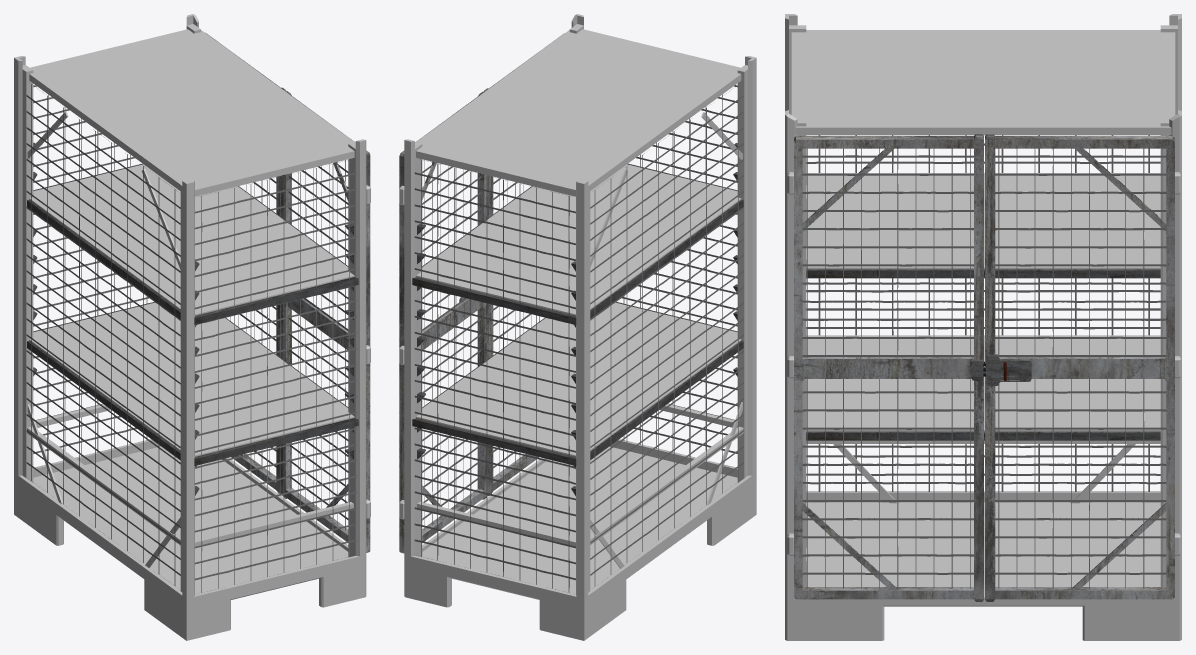
Rendered from militarya_locker9_mat.gltf.
The picture shows the model from 3 angles, left to right: view 1: azimuth 30°, elevation 25°; view 2: azimuth 150°, elevation 25°; view 3: azimuth 270°, elevation 25°; orthographic projection. The views are drawn at different scales.
Parts seen in each view (by area): view 1: fence_locker_body, desk_top.001, desk_top, fence_left, fence_back, LDoor, fence_right, desk_body.001, desk_body, fence_LDoor, RDoor, holders (+1 smaller); view 2: fence_locker_body, desk_top.001, desk_top, fence_right, fence_back, RDoor, desk_body.001, desk_body, fence_RDoor, fence_left, LDoor, holders (+1 smaller); view 3: fence_locker_body, desk_top, desk_top.001, LDoor, RDoor, fence_RDoor, fence_LDoor, fence_back, desk_body, desk_body.001, locker1.
Boxes of the visible parts, x1=… form: fence_locker_body: x1=14, y1=14, x2=370, y2=640; desk_top.001: x1=29, y1=302, x2=354, y2=456; desk_top: x1=29, y1=164, x2=354, y2=315; fence_left: x1=194, y1=159, x2=356, y2=592; fence_back: x1=26, y1=84, x2=180, y2=586; LDoor: x1=281, y1=91, x2=370, y2=552; fence_right: x1=33, y1=85, x2=148, y2=467; desk_body.001: x1=27, y1=302, x2=358, y2=465; desk_body: x1=27, y1=163, x2=358, y2=324; fence_LDoor: x1=288, y1=160, x2=348, y2=530; RDoor: x1=205, y1=32, x2=286, y2=493; holders: x1=33, y1=142, x2=353, y2=495; fence_locker_body: x1=399, y1=14, x2=756, y2=640; desk_top.001: x1=416, y1=302, x2=741, y2=456; desk_top: x1=416, y1=164, x2=741, y2=315; fence_right: x1=414, y1=159, x2=575, y2=592; fence_back: x1=590, y1=83, x2=743, y2=586; RDoor: x1=399, y1=91, x2=488, y2=553; desk_body.001: x1=412, y1=302, x2=743, y2=465; desk_body: x1=412, y1=163, x2=743, y2=324; fence_RDoor: x1=422, y1=160, x2=481, y2=530; fence_left: x1=621, y1=85, x2=737, y2=466; LDoor: x1=483, y1=33, x2=564, y2=495; holders: x1=417, y1=143, x2=737, y2=495; fence_locker_body: x1=785, y1=14, x2=1181, y2=640; desk_top: x1=806, y1=173, x2=1160, y2=269; desk_top.001: x1=806, y1=335, x2=1160, y2=431; LDoor: x1=794, y1=134, x2=983, y2=601; RDoor: x1=985, y1=134, x2=1174, y2=601; fence_RDoor: x1=995, y1=148, x2=1166, y2=588; fence_LDoor: x1=802, y1=148, x2=973, y2=588; fence_back: x1=806, y1=135, x2=1160, y2=491; desk_body: x1=806, y1=269, x2=1160, y2=278; desk_body.001: x1=806, y1=431, x2=1160, y2=440; locker1: x1=986, y1=354, x2=1031, y2=385.
Bounding box in the file's own units: 0.8918 × 2.03 × 1.39.
